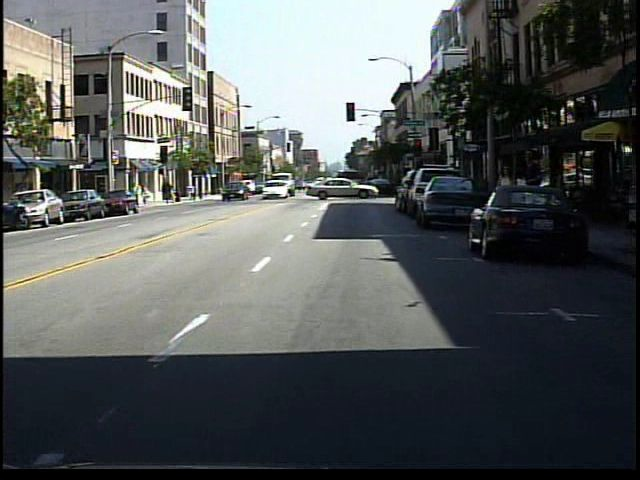person: (515, 148, 545, 244), (496, 156, 519, 239), (142, 181, 155, 208)
